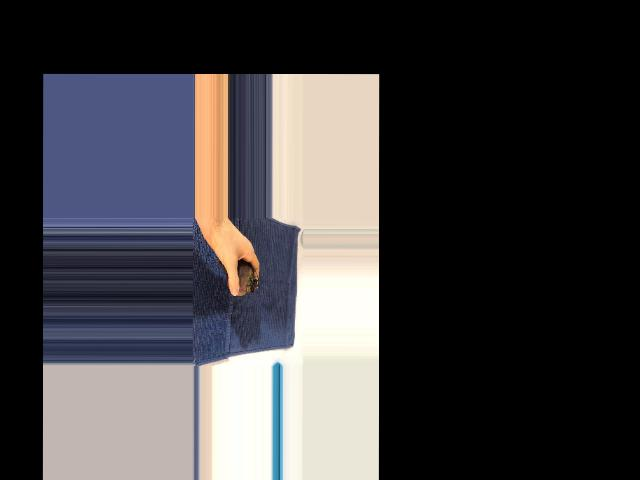beet: (214, 260, 258, 296)
